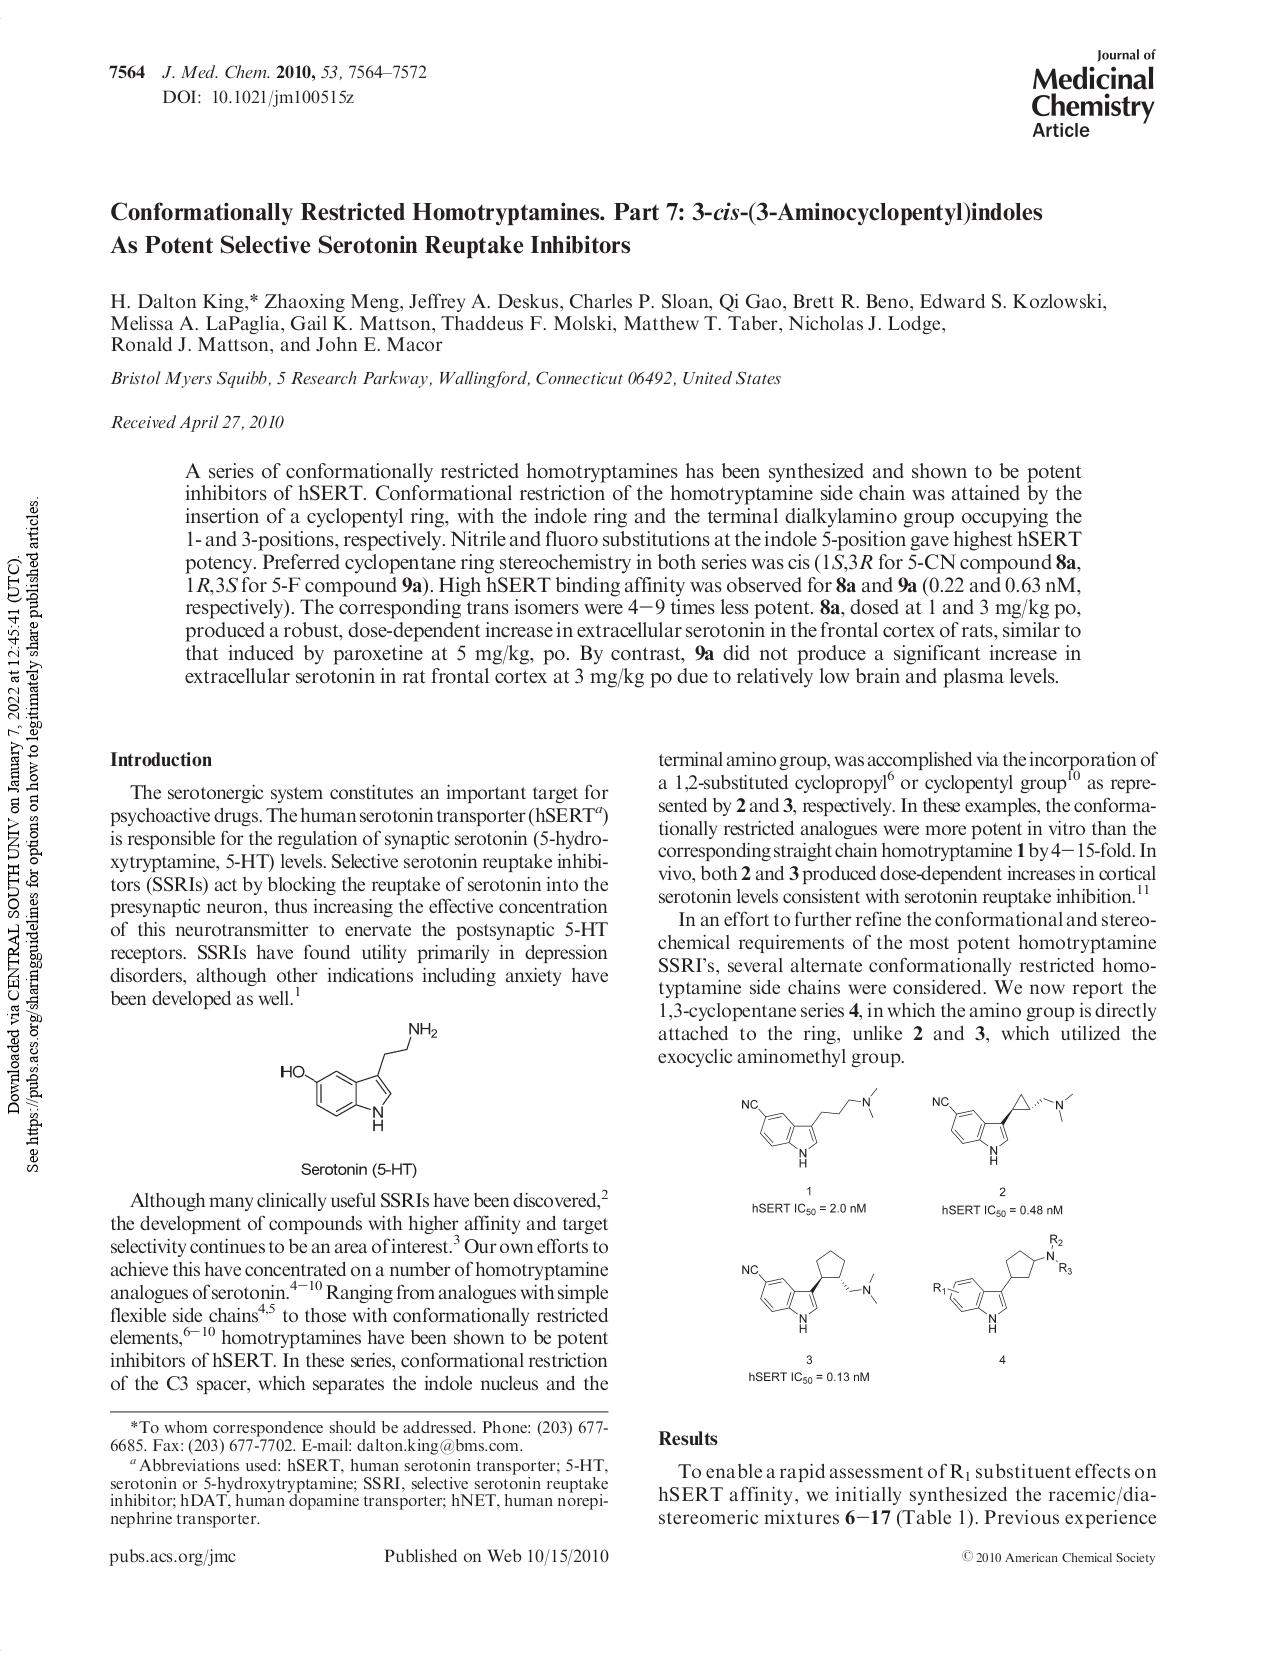exist_molecular: (278, 1019, 440, 1134), (932, 1231, 1075, 1337), (739, 1084, 880, 1172), (739, 1247, 879, 1334), (931, 1091, 1076, 1168)
